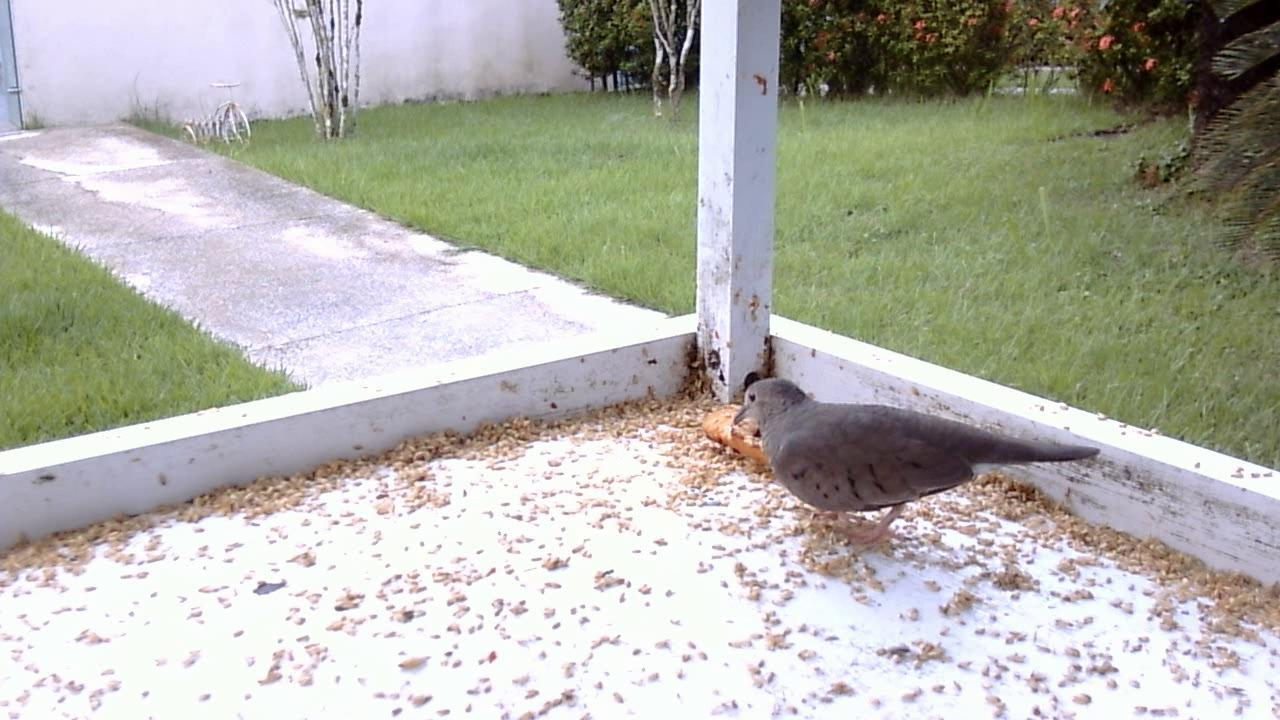rolinha: (726, 370, 1105, 537)
